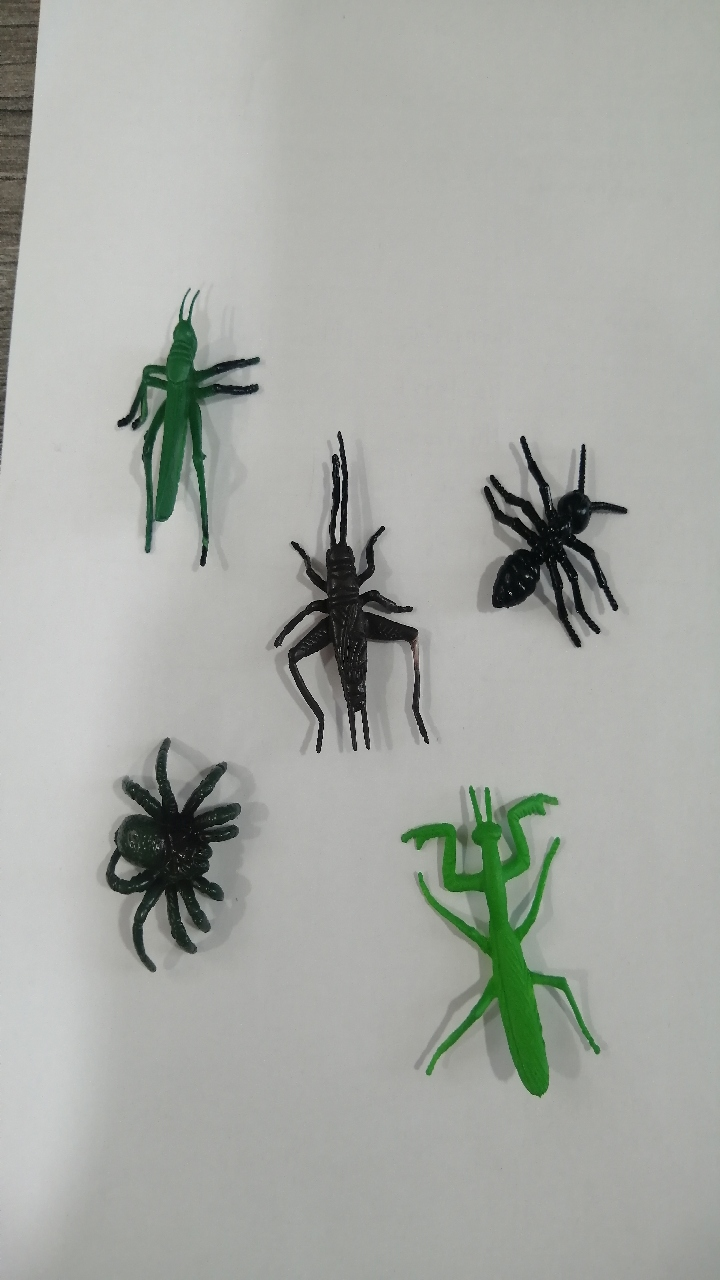intruso: (388, 771, 612, 1115), (235, 411, 446, 774), (78, 263, 277, 591), (458, 402, 646, 666), (81, 719, 260, 988)
